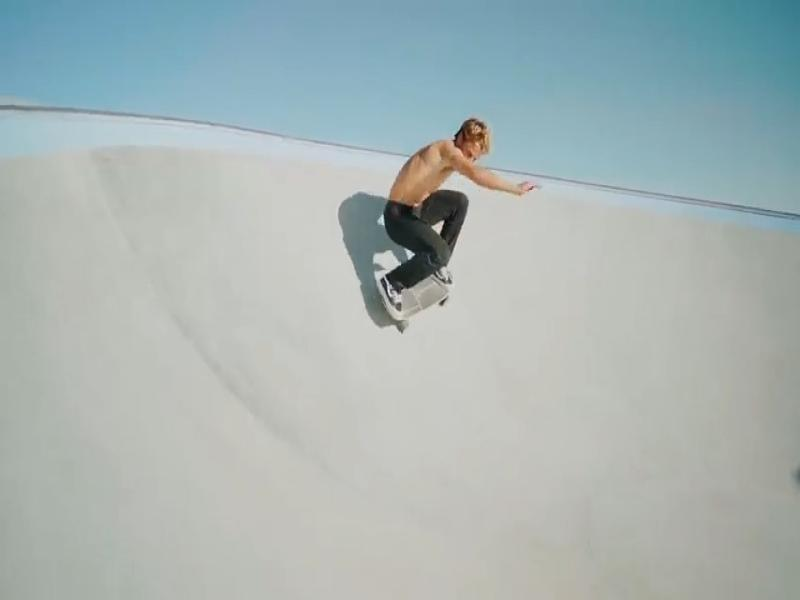person: (377, 119, 536, 321)
skate: (402, 275, 450, 320)
